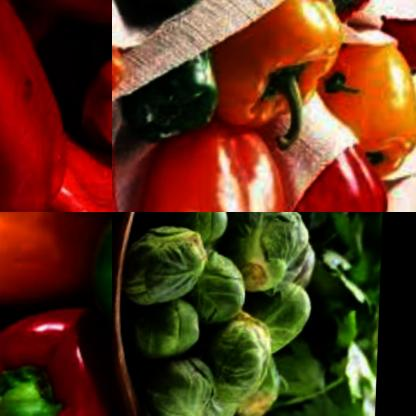bell pepper: (0, 0, 112, 212), (210, 0, 348, 132), (314, 26, 416, 186), (133, 115, 297, 212), (0, 294, 112, 416), (0, 212, 112, 315), (132, 36, 232, 141), (258, 143, 397, 212), (77, 212, 112, 383), (292, 0, 381, 25), (112, 29, 129, 130)
brus capusta: (116, 212, 337, 416)
